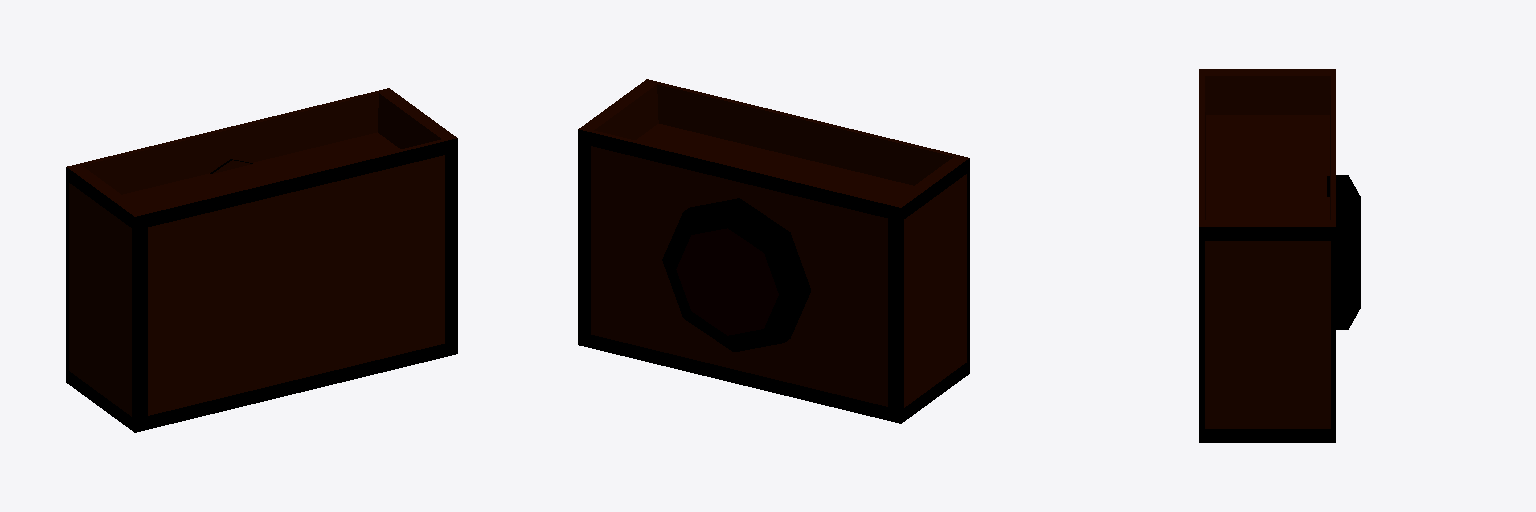
The model's file is mine_bag.obj.
The picture shows the model from 3 angles: view 1: azimuth 30°, elevation 25°; view 2: azimuth 150°, elevation 25°; view 3: azimuth 270°, elevation 25°; orthographic projection.
Parts seen in each view (by area): view 1: Cube.001; view 2: Cube.001; view 3: Cube.001.
Part boxes in pixels (bbox=[...]): Cube.001: bbox=[66, 88, 457, 432]; Cube.001: bbox=[578, 79, 969, 423]; Cube.001: bbox=[1199, 69, 1360, 442].
Bounding box in the file's own units: 0.5872 × 0.3753 × 0.2543.